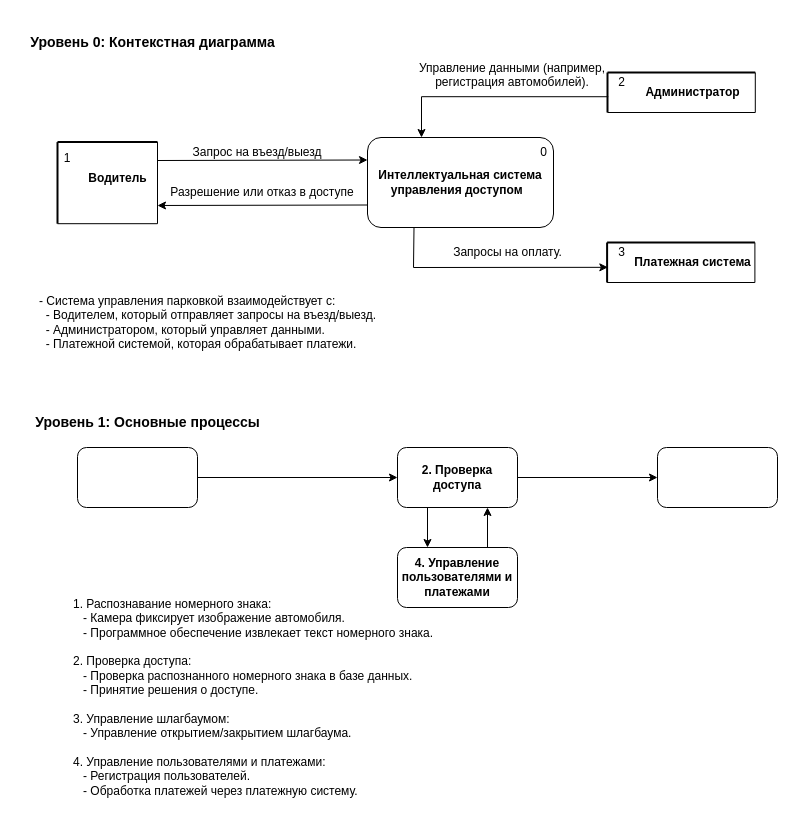
Image size: 795x834. Some labels were removed from this diagram. The box of each missing label's shape, as (x1, y1, x2, y2) in pixels:
1. Распознавание номерного знака: (76, 446, 198, 508)
3. Управление шлагбаумом: (656, 446, 778, 508)
